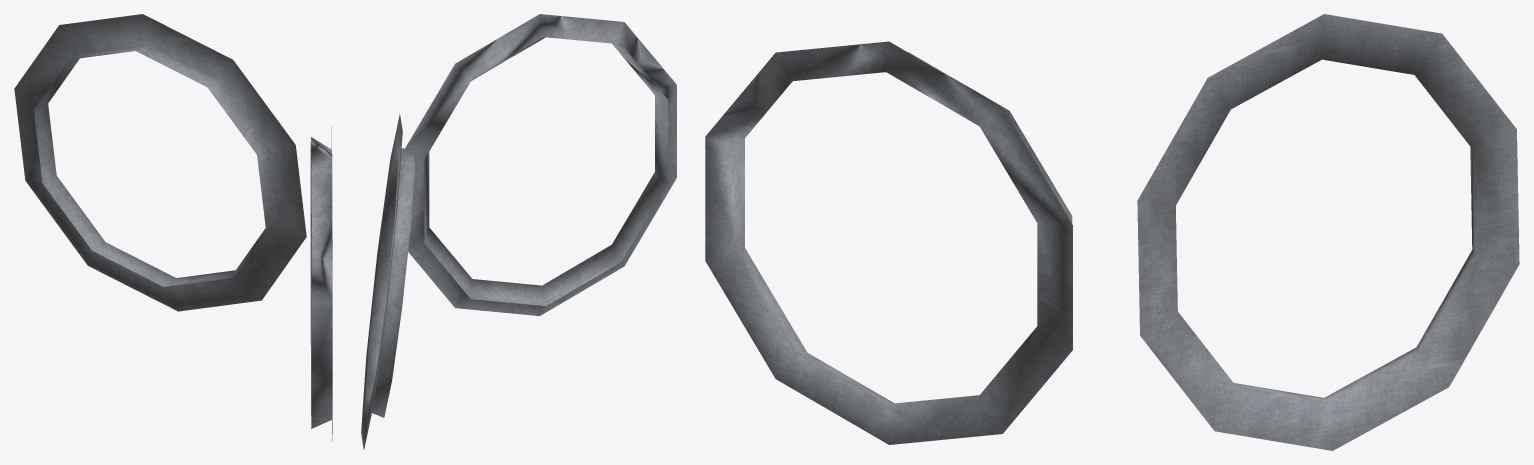
File: Gas Mask Eyes.obj
3 renders of one model, left to right at view 1: azimuth 30°, elevation 25°; view 2: azimuth 150°, elevation 25°; view 3: azimuth 270°, elevation 25°, orthographic. The views are drawn at different scales.
Visible parts, largest first — view 1: Main_Frame.001_Cube.000; view 2: Main_Frame.001_Cube.000; view 3: Main_Frame.001_Cube.000.
Part boxes in pixels (box(x1,y1,x2,y2)): Main_Frame.001_Cube.000: box(14, 14, 332, 441); Main_Frame.001_Cube.000: box(361, 14, 676, 449); Main_Frame.001_Cube.000: box(705, 14, 1519, 450).
Size of the model in its own units: 1.04 by 2.05 by 3.66.
